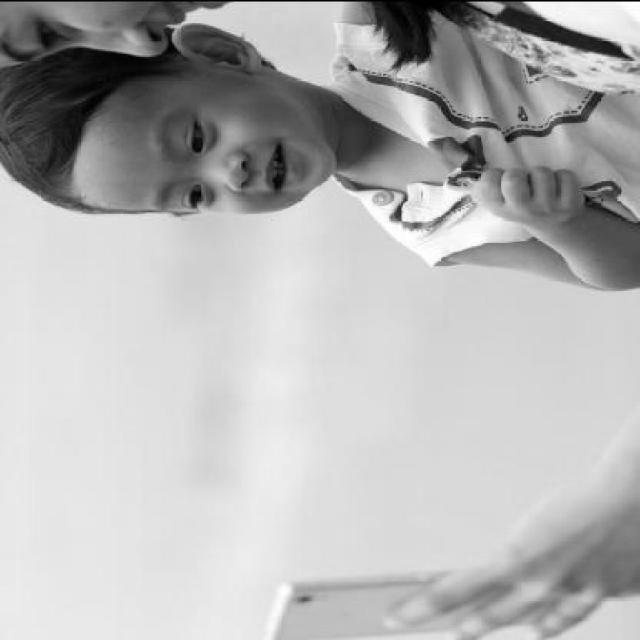fake: (260, 571, 558, 640)
